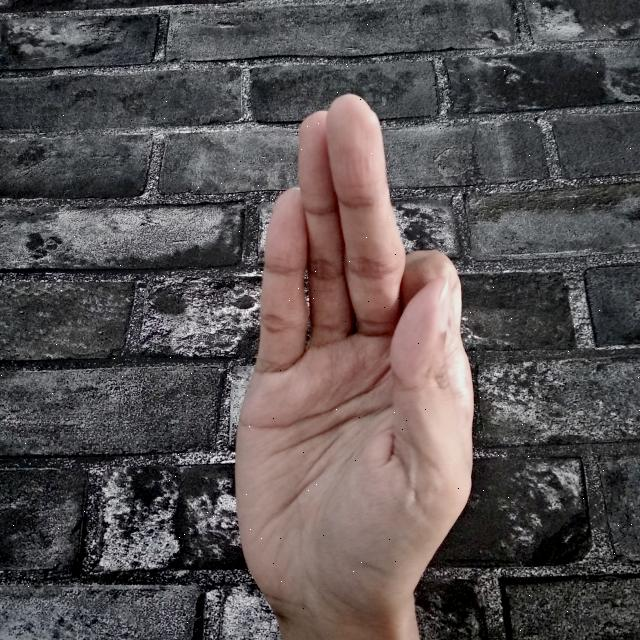F: (230, 90, 476, 640)
